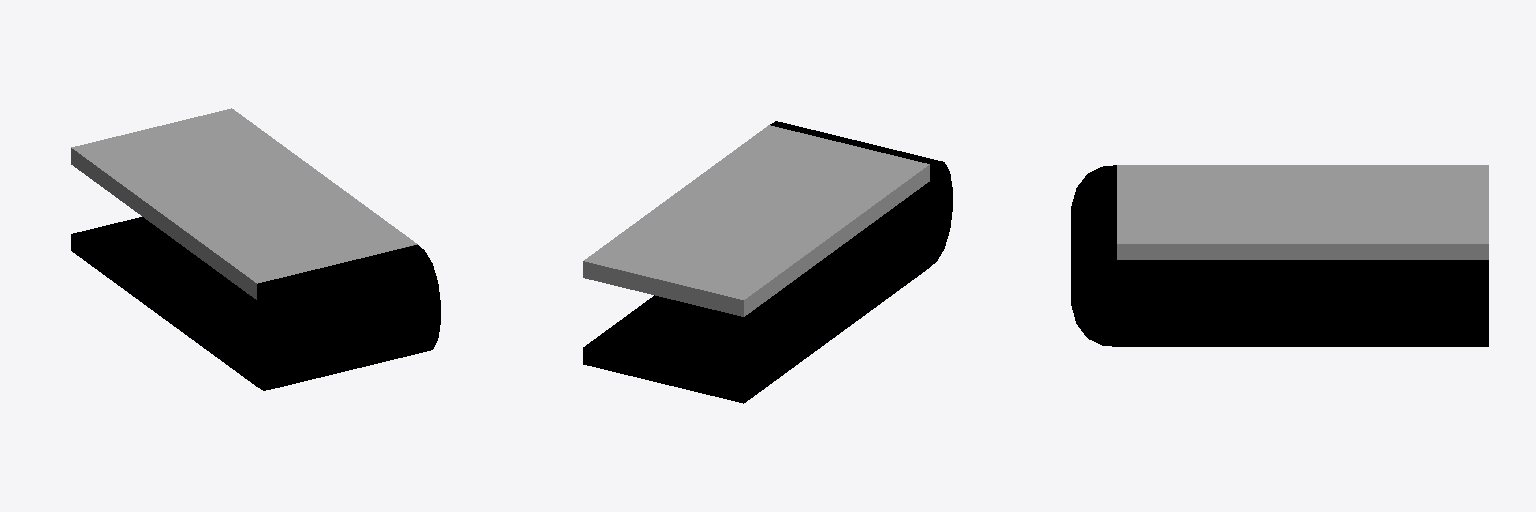
File: Modern_Table_obj.obj
The picture shows the model from 3 angles: view 1: azimuth 30°, elevation 25°; view 2: azimuth 150°, elevation 25°; view 3: azimuth 270°, elevation 25°; orthographic projection.
Visible parts, largest first — view 1: polySurface9 Table, Glas polySurface9; view 2: Glas polySurface9, polySurface9 Table; view 3: polySurface9 Table, Glas polySurface9.
Part boxes in pixels (x1,y1,x2,y2): polySurface9 Table: (71, 217, 440, 390); Glas polySurface9: (71, 108, 417, 299); Glas polySurface9: (583, 125, 929, 316); polySurface9 Table: (583, 121, 952, 403); polySurface9 Table: (1071, 165, 1488, 346); Glas polySurface9: (1117, 165, 1488, 259).
Bounding box in the file's own units: 4 × 2.45 × 8.99.